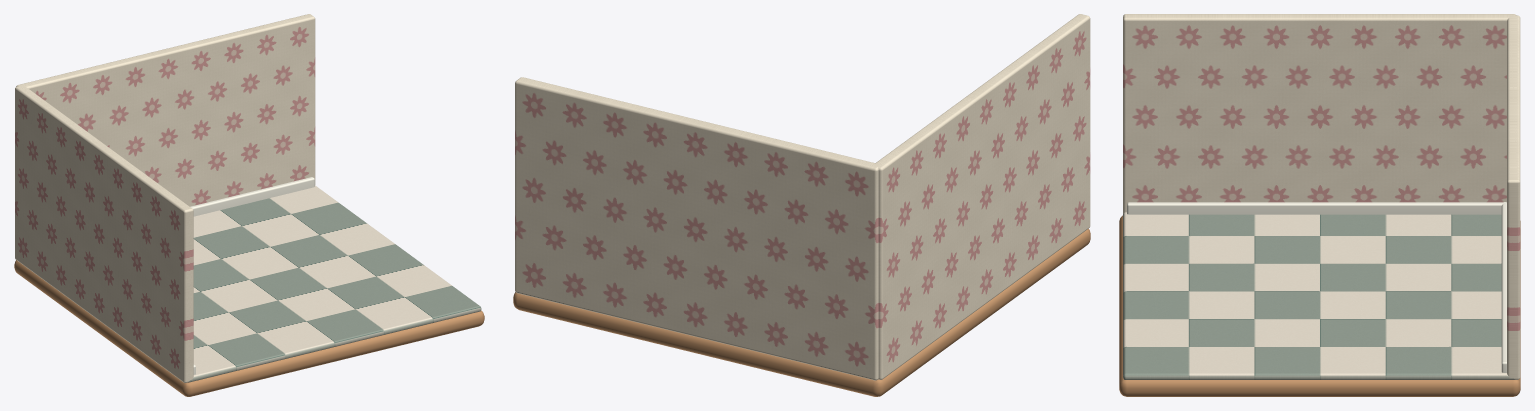
File: room17.glb
3 views of the same model, side by side, from view 1: azimuth 30°, elevation 25°; view 2: azimuth 150°, elevation 25°; view 3: azimuth 270°, elevation 25° (orthographic). The views are drawn at different scales.
Visible parts, largest first — view 1: Back wall, Cream floor, Left wall, Rounded room foundation, Back skirting; view 2: Back wall, Left wall, Rounded room foundation; view 3: Left wall, Cream floor, Rounded room foundation, Back wall, Left skirting, Back skirting.
Part boxes in pixels (x1=…): Back wall: x1=16, y1=14, x2=315, y2=206; Cream floor: x1=188, y1=185, x2=481, y2=382; Left wall: x1=15, y1=85, x2=193, y2=382; Rounded room foundation: x1=14, y1=260, x2=484, y2=396; Back skirting: x1=190, y1=177, x2=314, y2=216; Back wall: x1=515, y1=77, x2=879, y2=380; Left wall: x1=874, y1=14, x2=1090, y2=379; Rounded room foundation: x1=513, y1=229, x2=1090, y2=396; Left wall: x1=1123, y1=14, x2=1515, y2=213; Cream floor: x1=1123, y1=212, x2=1514, y2=379; Rounded room foundation: x1=1119, y1=215, x2=1520, y2=396; Back wall: x1=1507, y1=15, x2=1520, y2=379; Left skirting: x1=1127, y1=202, x2=1506, y2=214; Back skirting: x1=1501, y1=202, x2=1506, y2=372.
Bounding box in the file's own units: 5.1 × 3.04 × 5.1.
4 materials, 2 textured.
